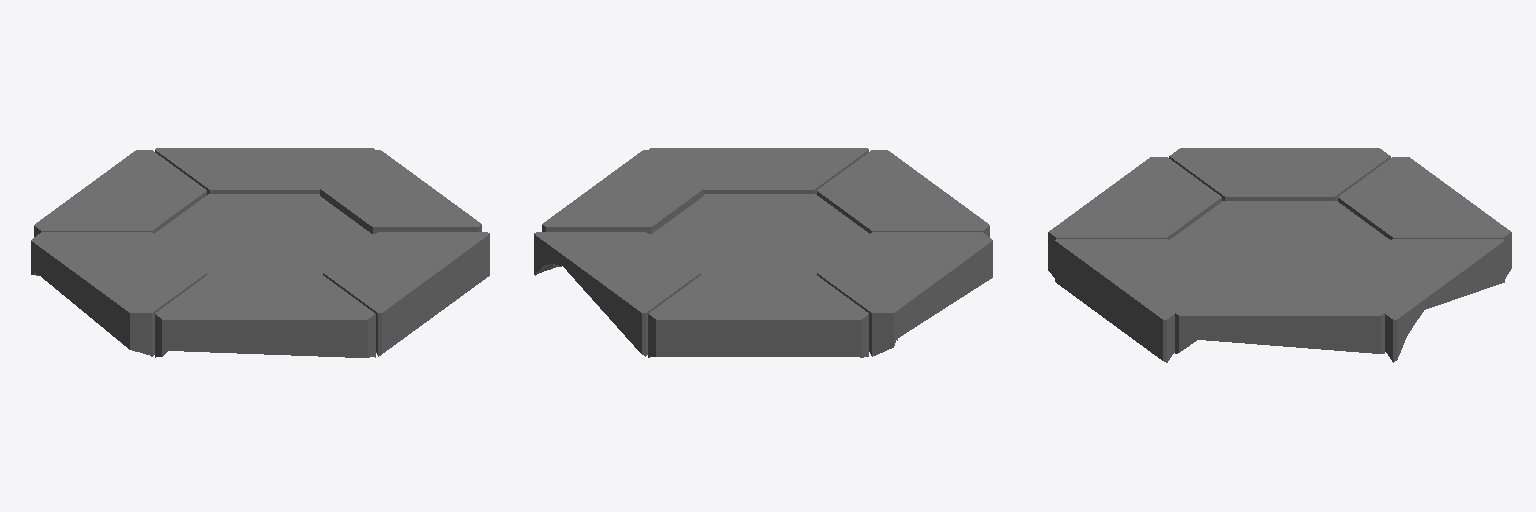
Rendered from ceiling.obj.
3 renders of one model, left to right at view 1: azimuth 30°, elevation 25°; view 2: azimuth 150°, elevation 25°; view 3: azimuth 270°, elevation 25°, orthographic.
Parts seen in each view (by area): view 1: detailed_roof3; view 2: detailed_roof3; view 3: detailed_roof3.
Part boxes in pixels (left/top/right/bottom): detailed_roof3: left=31, top=148, right=489, bottom=357; detailed_roof3: left=534, top=148, right=992, bottom=357; detailed_roof3: left=1048, top=148, right=1511, bottom=362.
Bounding box in the file's own units: 61.4 × 8.64 × 70.09.